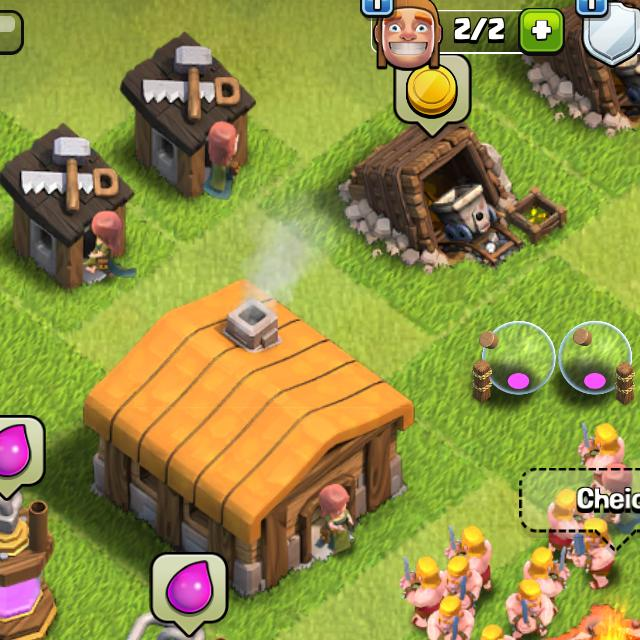Elixir: (152, 552, 229, 640), (0, 418, 46, 502)
coin: (397, 55, 468, 141)
